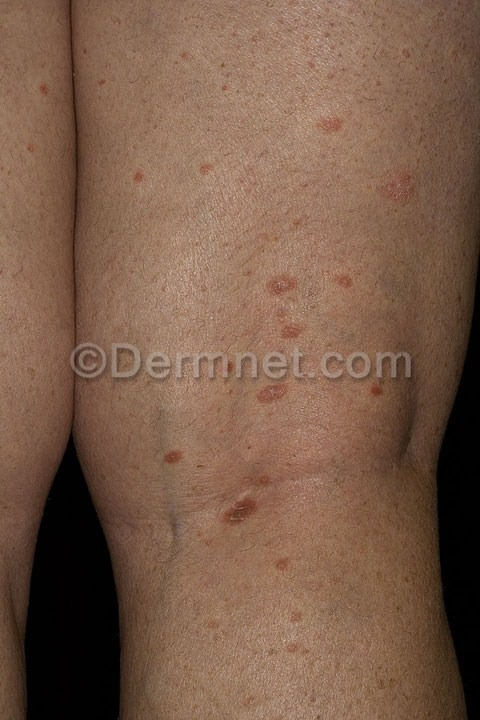Psoriasis: (248, 255, 362, 347), (210, 475, 288, 546), (237, 374, 308, 429), (356, 161, 431, 213), (310, 90, 373, 148), (149, 433, 216, 477), (109, 157, 162, 203), (176, 154, 236, 193), (365, 377, 395, 410)
